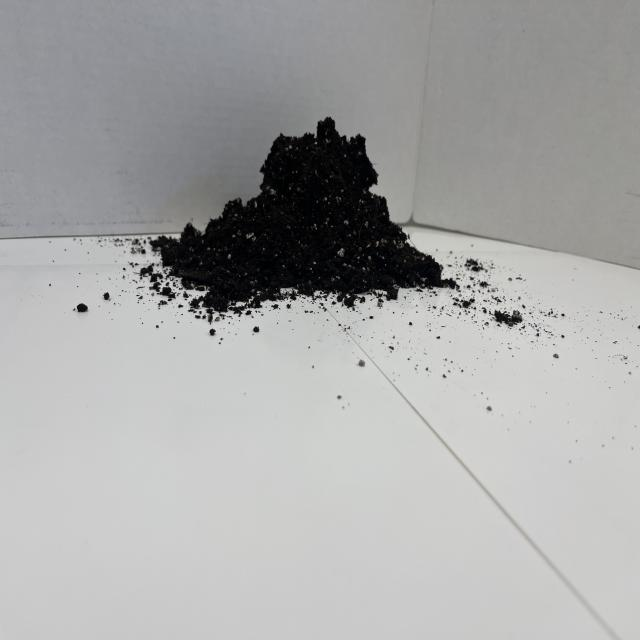soil: (150, 114, 455, 308)
